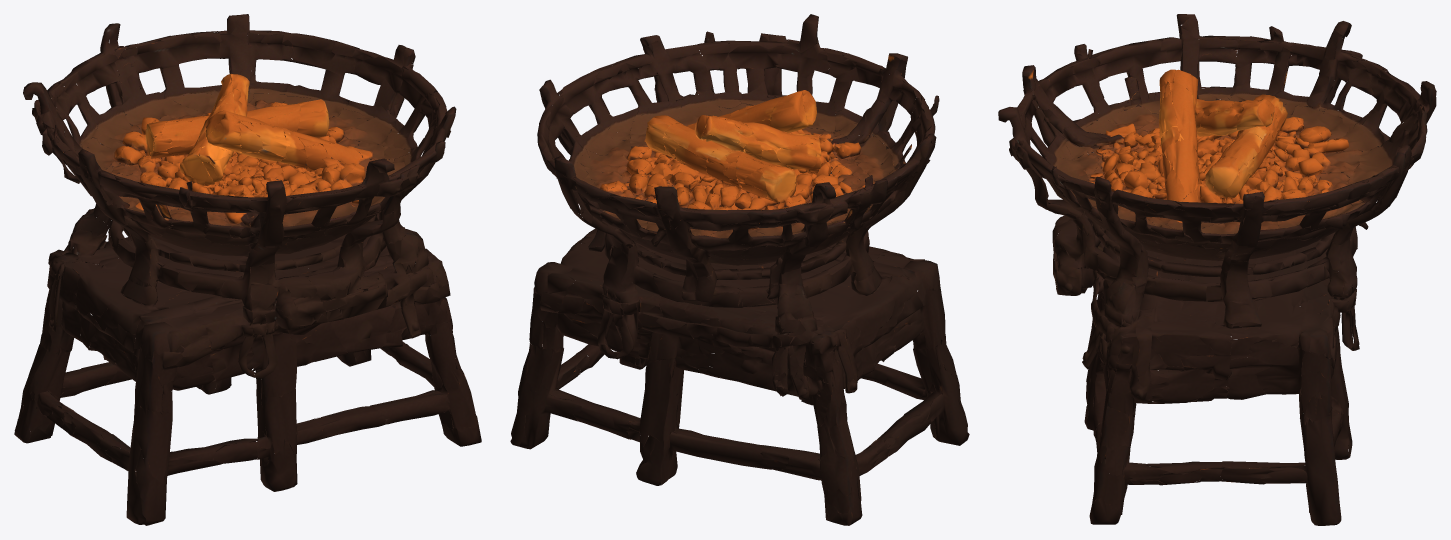
The model's file is cleaned.glb.
3 renders of one model, left to right at view 1: azimuth 30°, elevation 25°; view 2: azimuth 150°, elevation 25°; view 3: azimuth 270°, elevation 25°, orthographic.
Parts seen in each view (by area): view 1: brazier Meshy body; view 2: brazier Meshy body; view 3: brazier Meshy body.
Boxes of the visible parts, box(x1,y1,x2,y2) form: brazier Meshy body: box(14, 14, 481, 525); brazier Meshy body: box(510, 14, 969, 525); brazier Meshy body: box(998, 14, 1436, 525).
Bounding box in the file's own units: 1.08 × 1 × 1.13.
Materials: 1 (1 with a texture image).
